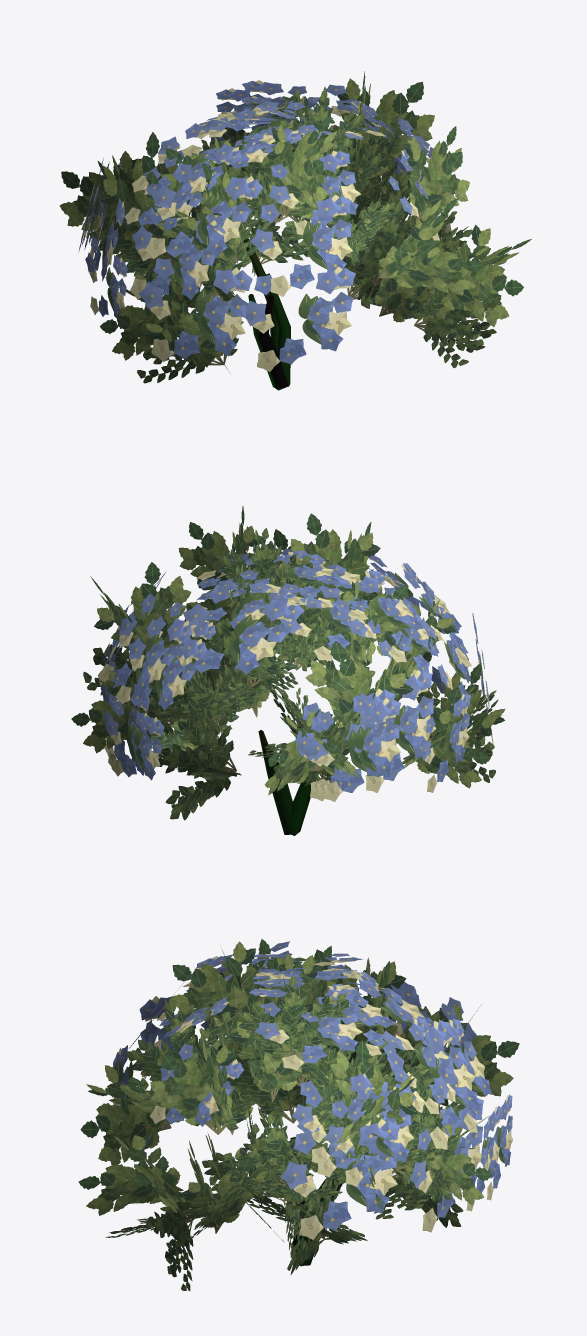
Rendered from SM_Bush_Flowering.fbx.
The picture shows the model from 3 angles, top to bottom: view 1: azimuth 30°, elevation 25°; view 2: azimuth 150°, elevation 25°; view 3: azimuth 270°, elevation 25°; orthographic projection. The views are drawn at different scales.
Visible parts, largest first — view 1: SM_Bush_Flowering_LOD0; view 2: SM_Bush_Flowering_LOD0; view 3: SM_Bush_Flowering_LOD0.
Part boxes in pixels (bbox=[...]): SM_Bush_Flowering_LOD0: bbox=[59, 71, 531, 390]; SM_Bush_Flowering_LOD0: bbox=[71, 506, 505, 835]; SM_Bush_Flowering_LOD0: bbox=[78, 939, 519, 1291].
Size of what is drawn, in the model's own units: 1.92 by 1.39 by 1.94.
